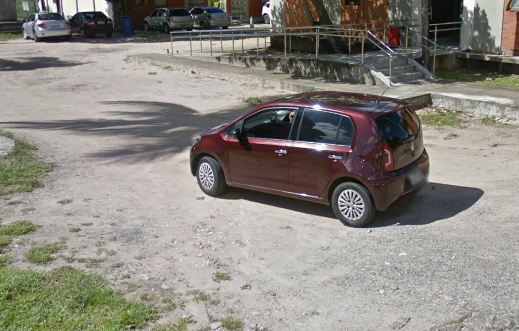car: (186, 81, 431, 229)
